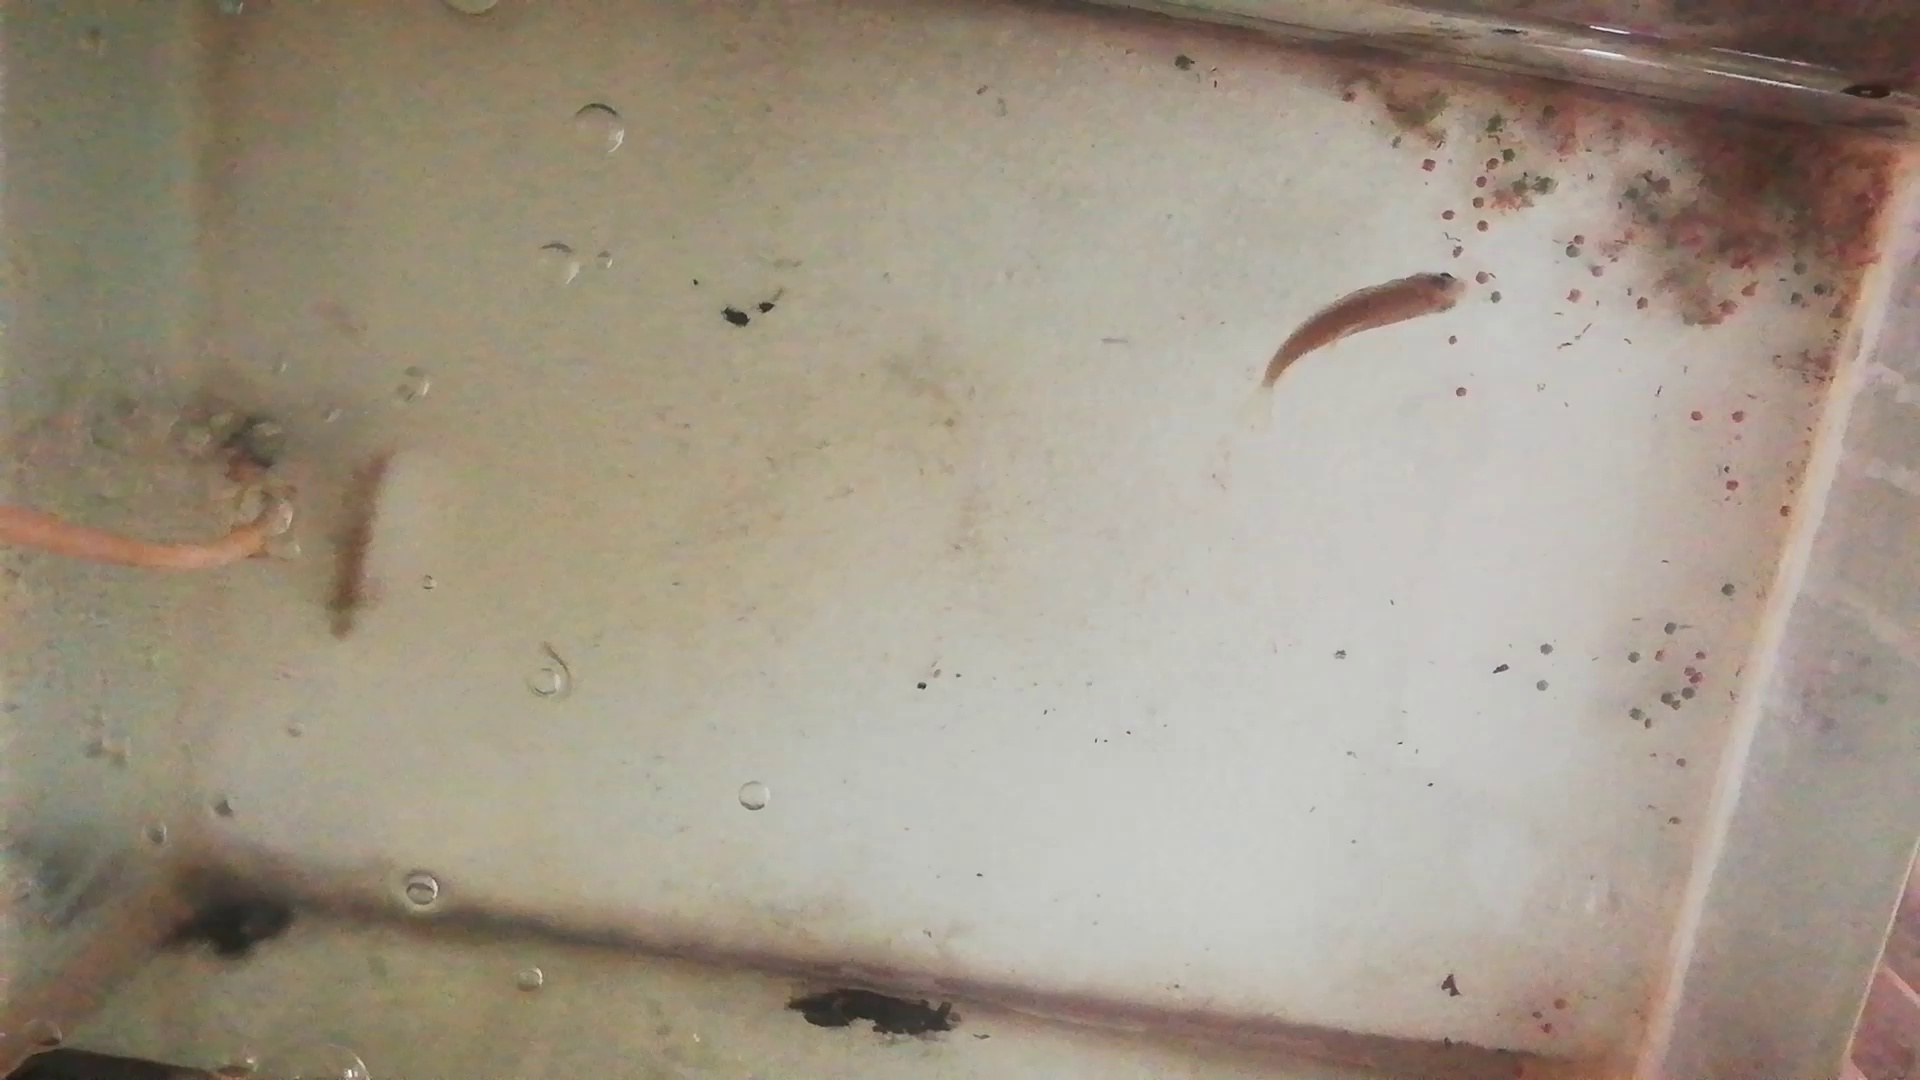fish: (1262, 270, 1466, 381), (320, 447, 392, 644)
